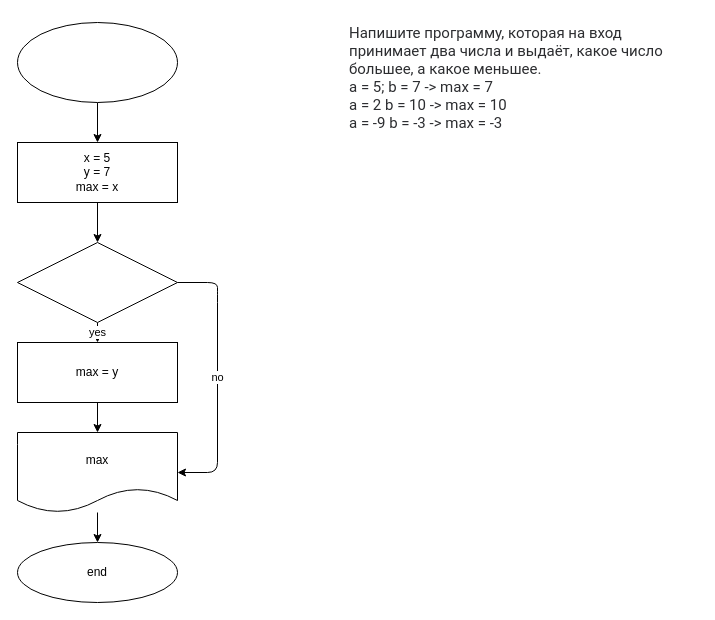
The diagram is 715 pixels wide and 620 high, and some of its shapes have lost their labels. The shapes that lost their labels are listed below. From the top down, each one's centre as x and y in pixels, then its label:
(97,62): start
(97,282): if max < y
